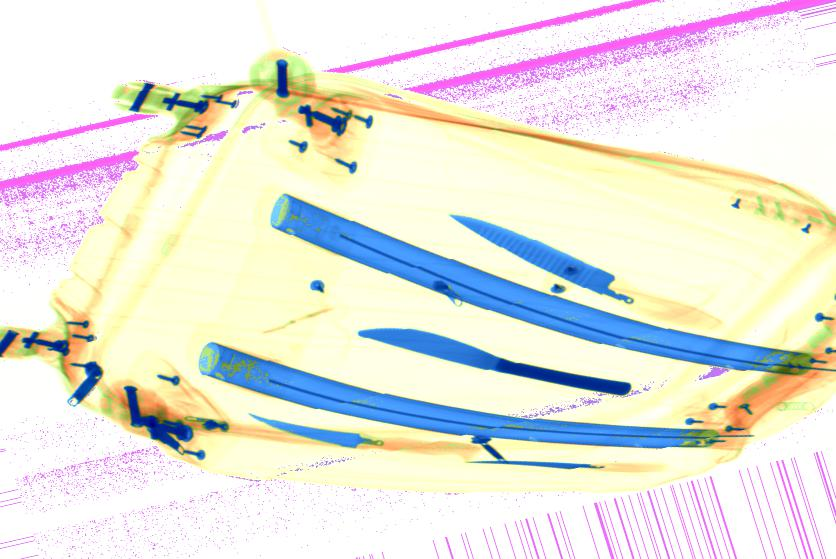Knife: (446, 213, 653, 315), (356, 324, 633, 399), (248, 411, 386, 451), (464, 458, 665, 474)
